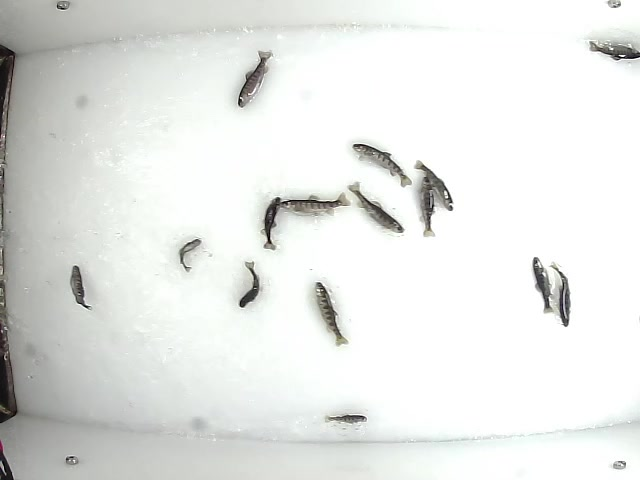fish: (345, 182, 409, 235), (350, 141, 413, 190), (313, 280, 350, 347), (413, 158, 455, 215), (233, 49, 272, 110), (278, 190, 351, 218), (531, 255, 557, 315), (549, 258, 570, 327), (258, 195, 283, 252), (66, 262, 93, 312), (419, 173, 439, 240), (236, 258, 261, 308), (587, 40, 640, 63), (178, 237, 205, 275), (321, 408, 368, 427)
